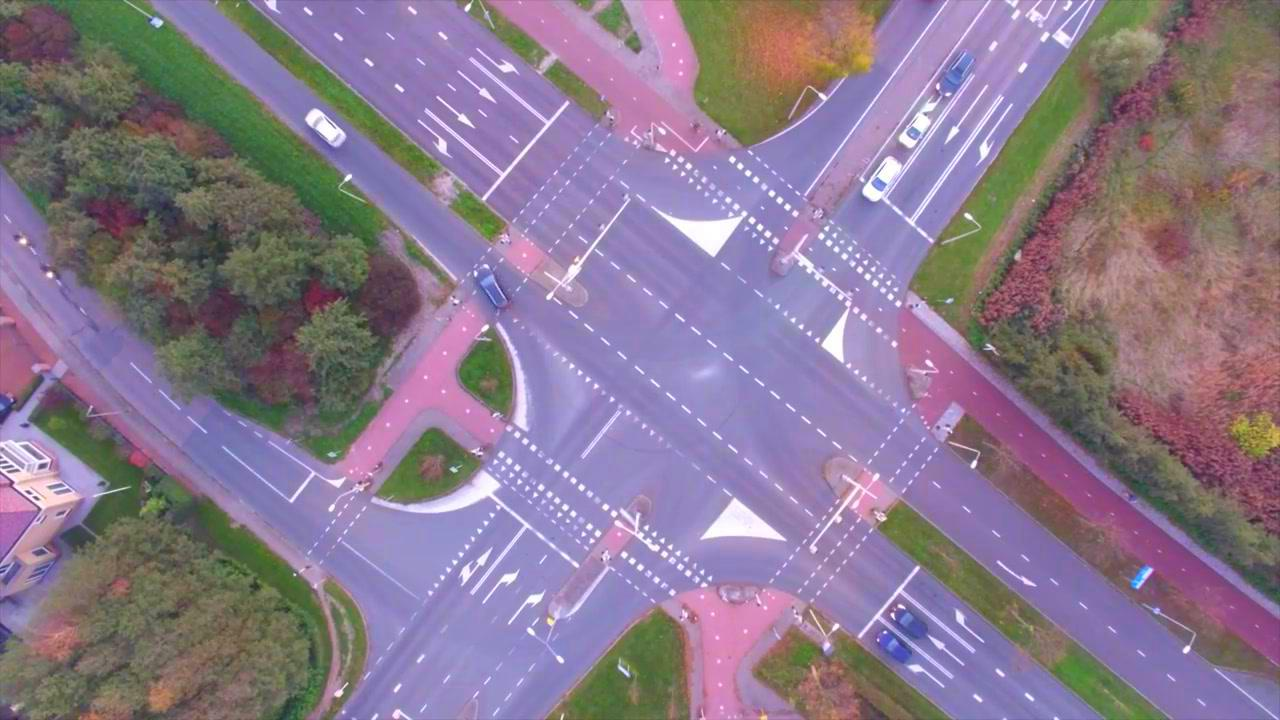vehicle: (934, 49, 978, 97), (861, 155, 904, 203), (471, 263, 514, 311), (304, 107, 348, 148), (889, 602, 930, 639), (874, 628, 913, 664), (898, 111, 932, 149)
